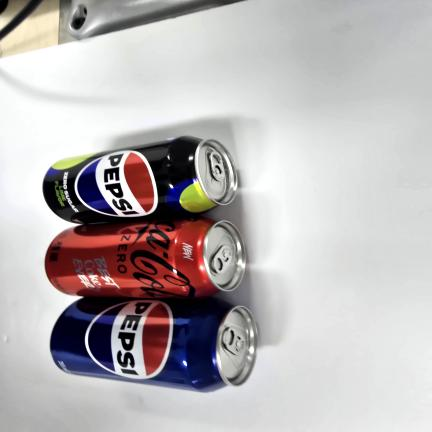can_coke_zero: (42, 221, 245, 300)
can_pepsi: (50, 300, 256, 393)
can_pepsi_zero: (46, 136, 235, 228)
